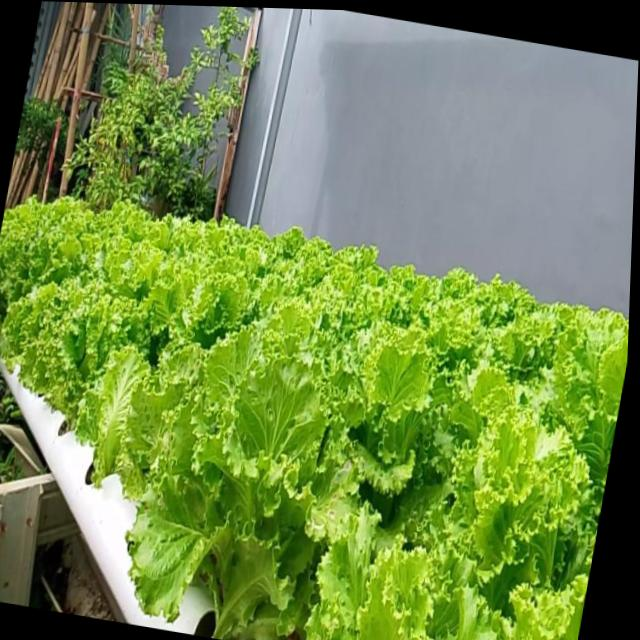Mature: (0, 184, 630, 640), (122, 323, 328, 617), (0, 227, 140, 444)
